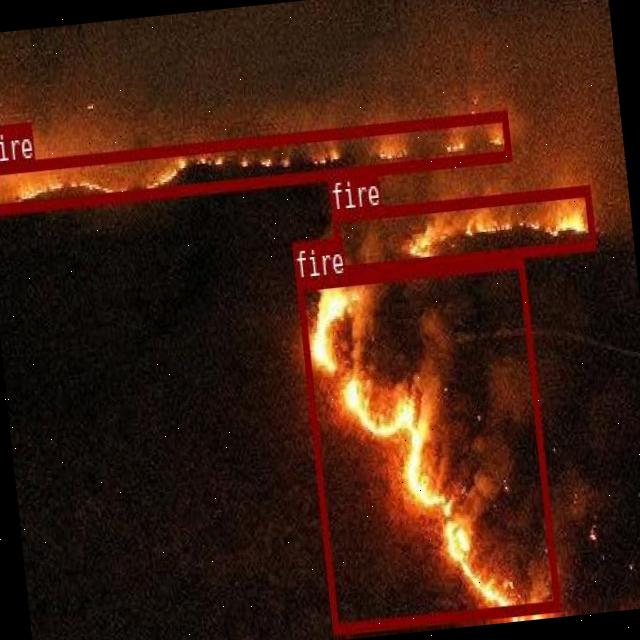fire: (294, 254, 560, 632), (0, 108, 511, 212), (332, 184, 595, 275)
